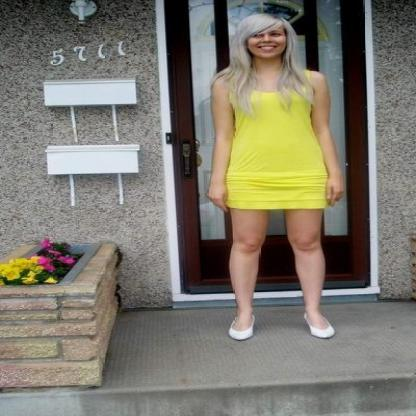dress: (226, 90, 330, 209)
shoe: (229, 308, 333, 338)
